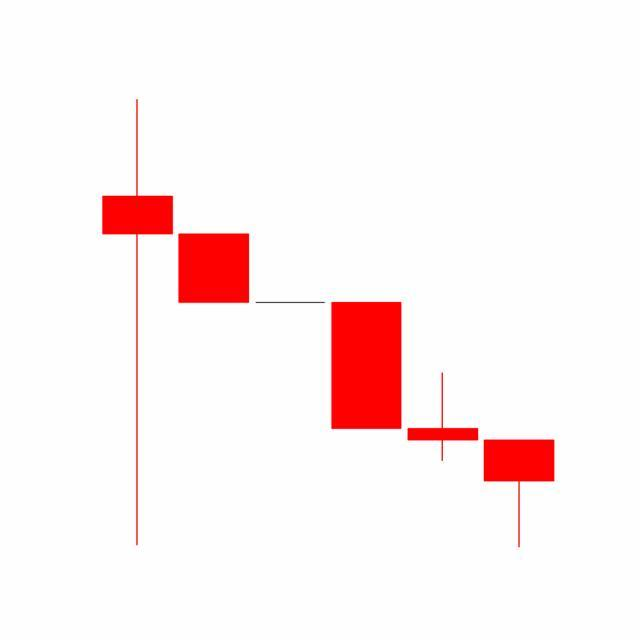Spinning Top: (404, 372, 482, 463)
